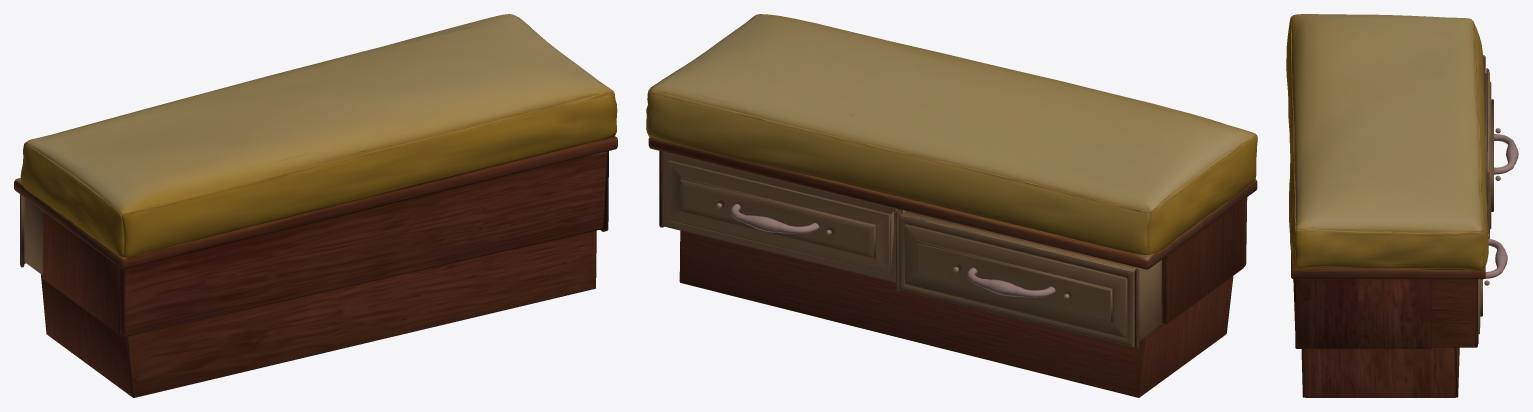
File: guest-bench.glb
3 renders of one model, left to right at view 1: azimuth 30°, elevation 25°; view 2: azimuth 150°, elevation 25°; view 3: azimuth 270°, elevation 25°, orthographic. The views are drawn at different scales.
Visible parts, largest first — view 1: tripo_node_746b5862-f8af-4c73-99ef-a71d5acc40ed; view 2: tripo_node_746b5862-f8af-4c73-99ef-a71d5acc40ed; view 3: tripo_node_746b5862-f8af-4c73-99ef-a71d5acc40ed.
Boxes of the visible parts, <box> form: tripo_node_746b5862-f8af-4c73-99ef-a71d5acc40ed: <box>14,14,617,397</box>; tripo_node_746b5862-f8af-4c73-99ef-a71d5acc40ed: <box>646,14,1257,397</box>; tripo_node_746b5862-f8af-4c73-99ef-a71d5acc40ed: <box>1286,14,1518,397</box>.
Size of the model in its own units: 0.9995 by 0.4097 by 0.4468.
1 material, 1 textured.
